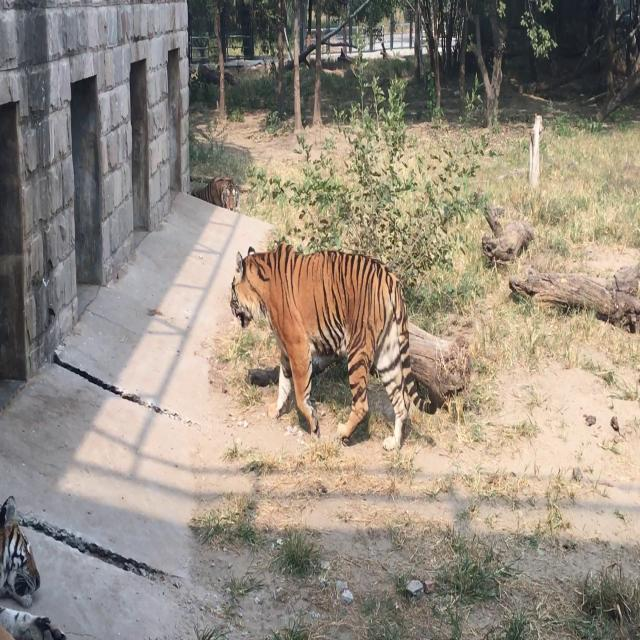Tiger: (217, 223, 445, 453), (188, 158, 244, 215)
